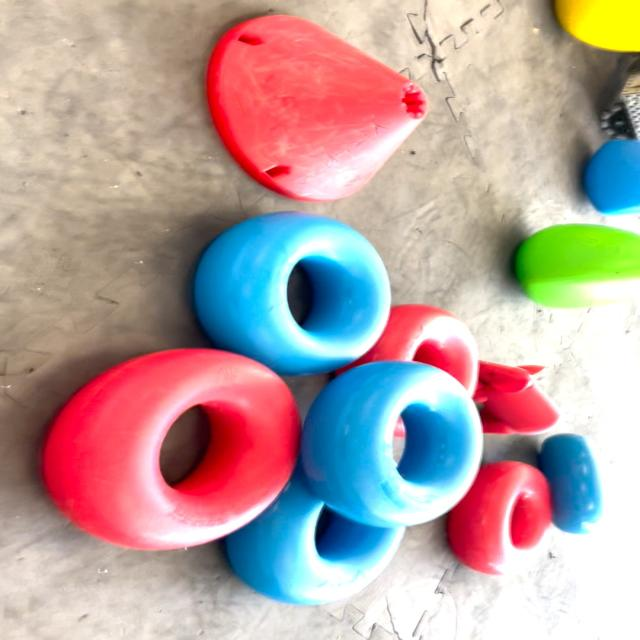Blue-Ring: (193, 211, 391, 375), (300, 361, 482, 528), (227, 468, 404, 605), (549, 440, 599, 532)
Red-Ring: (42, 349, 300, 550), (449, 461, 551, 575)
